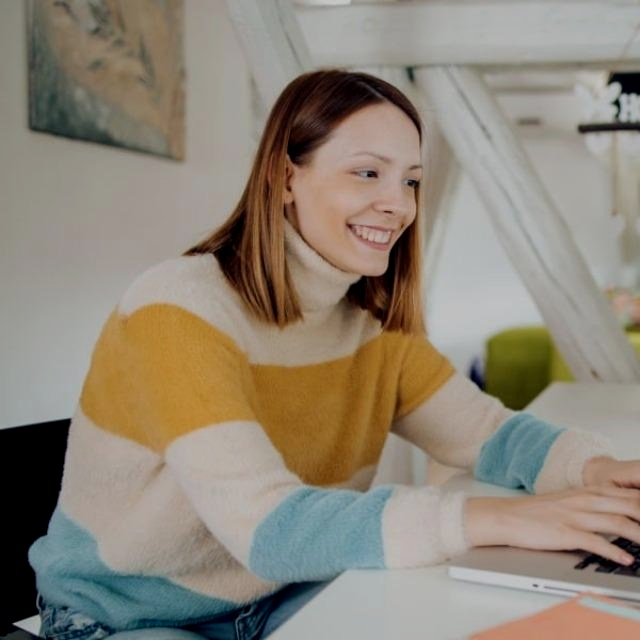Sin_Casco_Mascarrilla: (269, 71, 424, 279)
